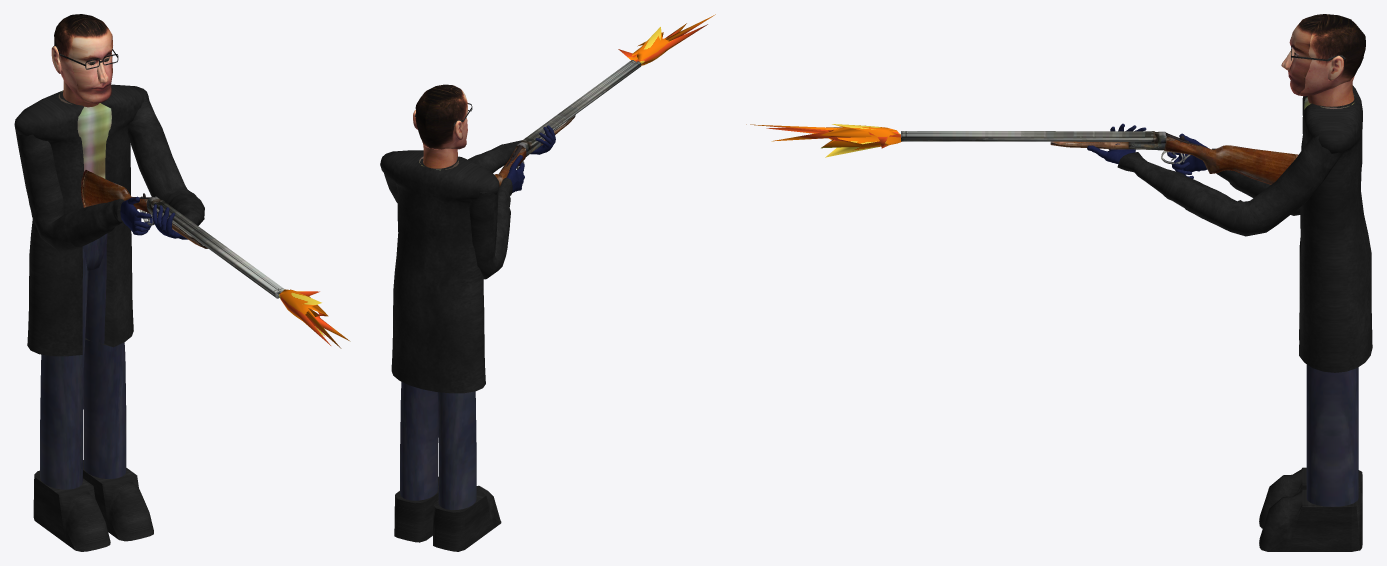
The model's file is Joe180fire.fbx.
3 views of the same model, side by side, from view 1: azimuth 30°, elevation 25°; view 2: azimuth 150°, elevation 25°; view 3: azimuth 270°, elevation 25° (orthographic). The views are drawn at different scales.
Parts seen in each view (by area): view 1: joe_trenchcoat, joe_legs, rarm, larm, joe_face, joe_rshoetest, dbshotgun, joe_lshoetest, joe_shirt, shotgunflash; view 2: joe_trenchcoat, joe_legs, rarm, joe_face, joe_rshoetest, dbshotgun, joe_lshoetest, shotgunflash, larm, joe_neck; view 3: joe_trenchcoat, larm, joe_legs, dbshotgun, joe_lshoetest, joe_face, shotgunflash, joe_rshoetest, joe_neck, rarm.
Part boxes in pixels (<box>): joe_trenchcoat: <box>14,84,149,356</box>; joe_legs: <box>40,233,126,489</box>; rarm: <box>14,125,124,251</box>; larm: <box>127,95,204,225</box>; joe_face: <box>54,14,112,103</box>; joe_rshoetest: <box>33,470,110,551</box>; dbshotgun: <box>81,170,284,298</box>; joe_lshoetest: <box>83,460,153,541</box>; joe_shirt: <box>58,91,111,178</box>; shotgunflash: <box>279,289,350,348</box>; joe_trenchcoat: <box>380,150,499,393</box>; joe_legs: <box>400,381,476,509</box>; rarm: <box>469,177,512,279</box>; joe_face: <box>415,84,467,149</box>; joe_rshoetest: <box>433,485,501,551</box>; dbshotgun: <box>494,60,641,186</box>; joe_lshoetest: <box>394,476,438,542</box>; shotgunflash: <box>618,14,715,65</box>; larm: <box>384,140,521,202</box>; joe_neck: <box>423,144,457,168</box>; joe_trenchcoat: <box>1299,85,1372,372</box>; larm: <box>1117,135,1344,236</box>; joe_legs: <box>1306,364,1358,506</box>; dbshotgun: <box>901,131,1298,184</box>; joe_lshoetest: <box>1259,489,1362,551</box>; joe_face: <box>1288,14,1365,96</box>; shotgunflash: <box>746,124,901,157</box>; joe_rshoetest: <box>1259,467,1362,528</box>; joe_neck: <box>1307,76,1354,106</box>; rarm: <box>1212,148,1300,215</box>.
Size of the model in its own units: 17.23 by 60.91 by 67.36.
